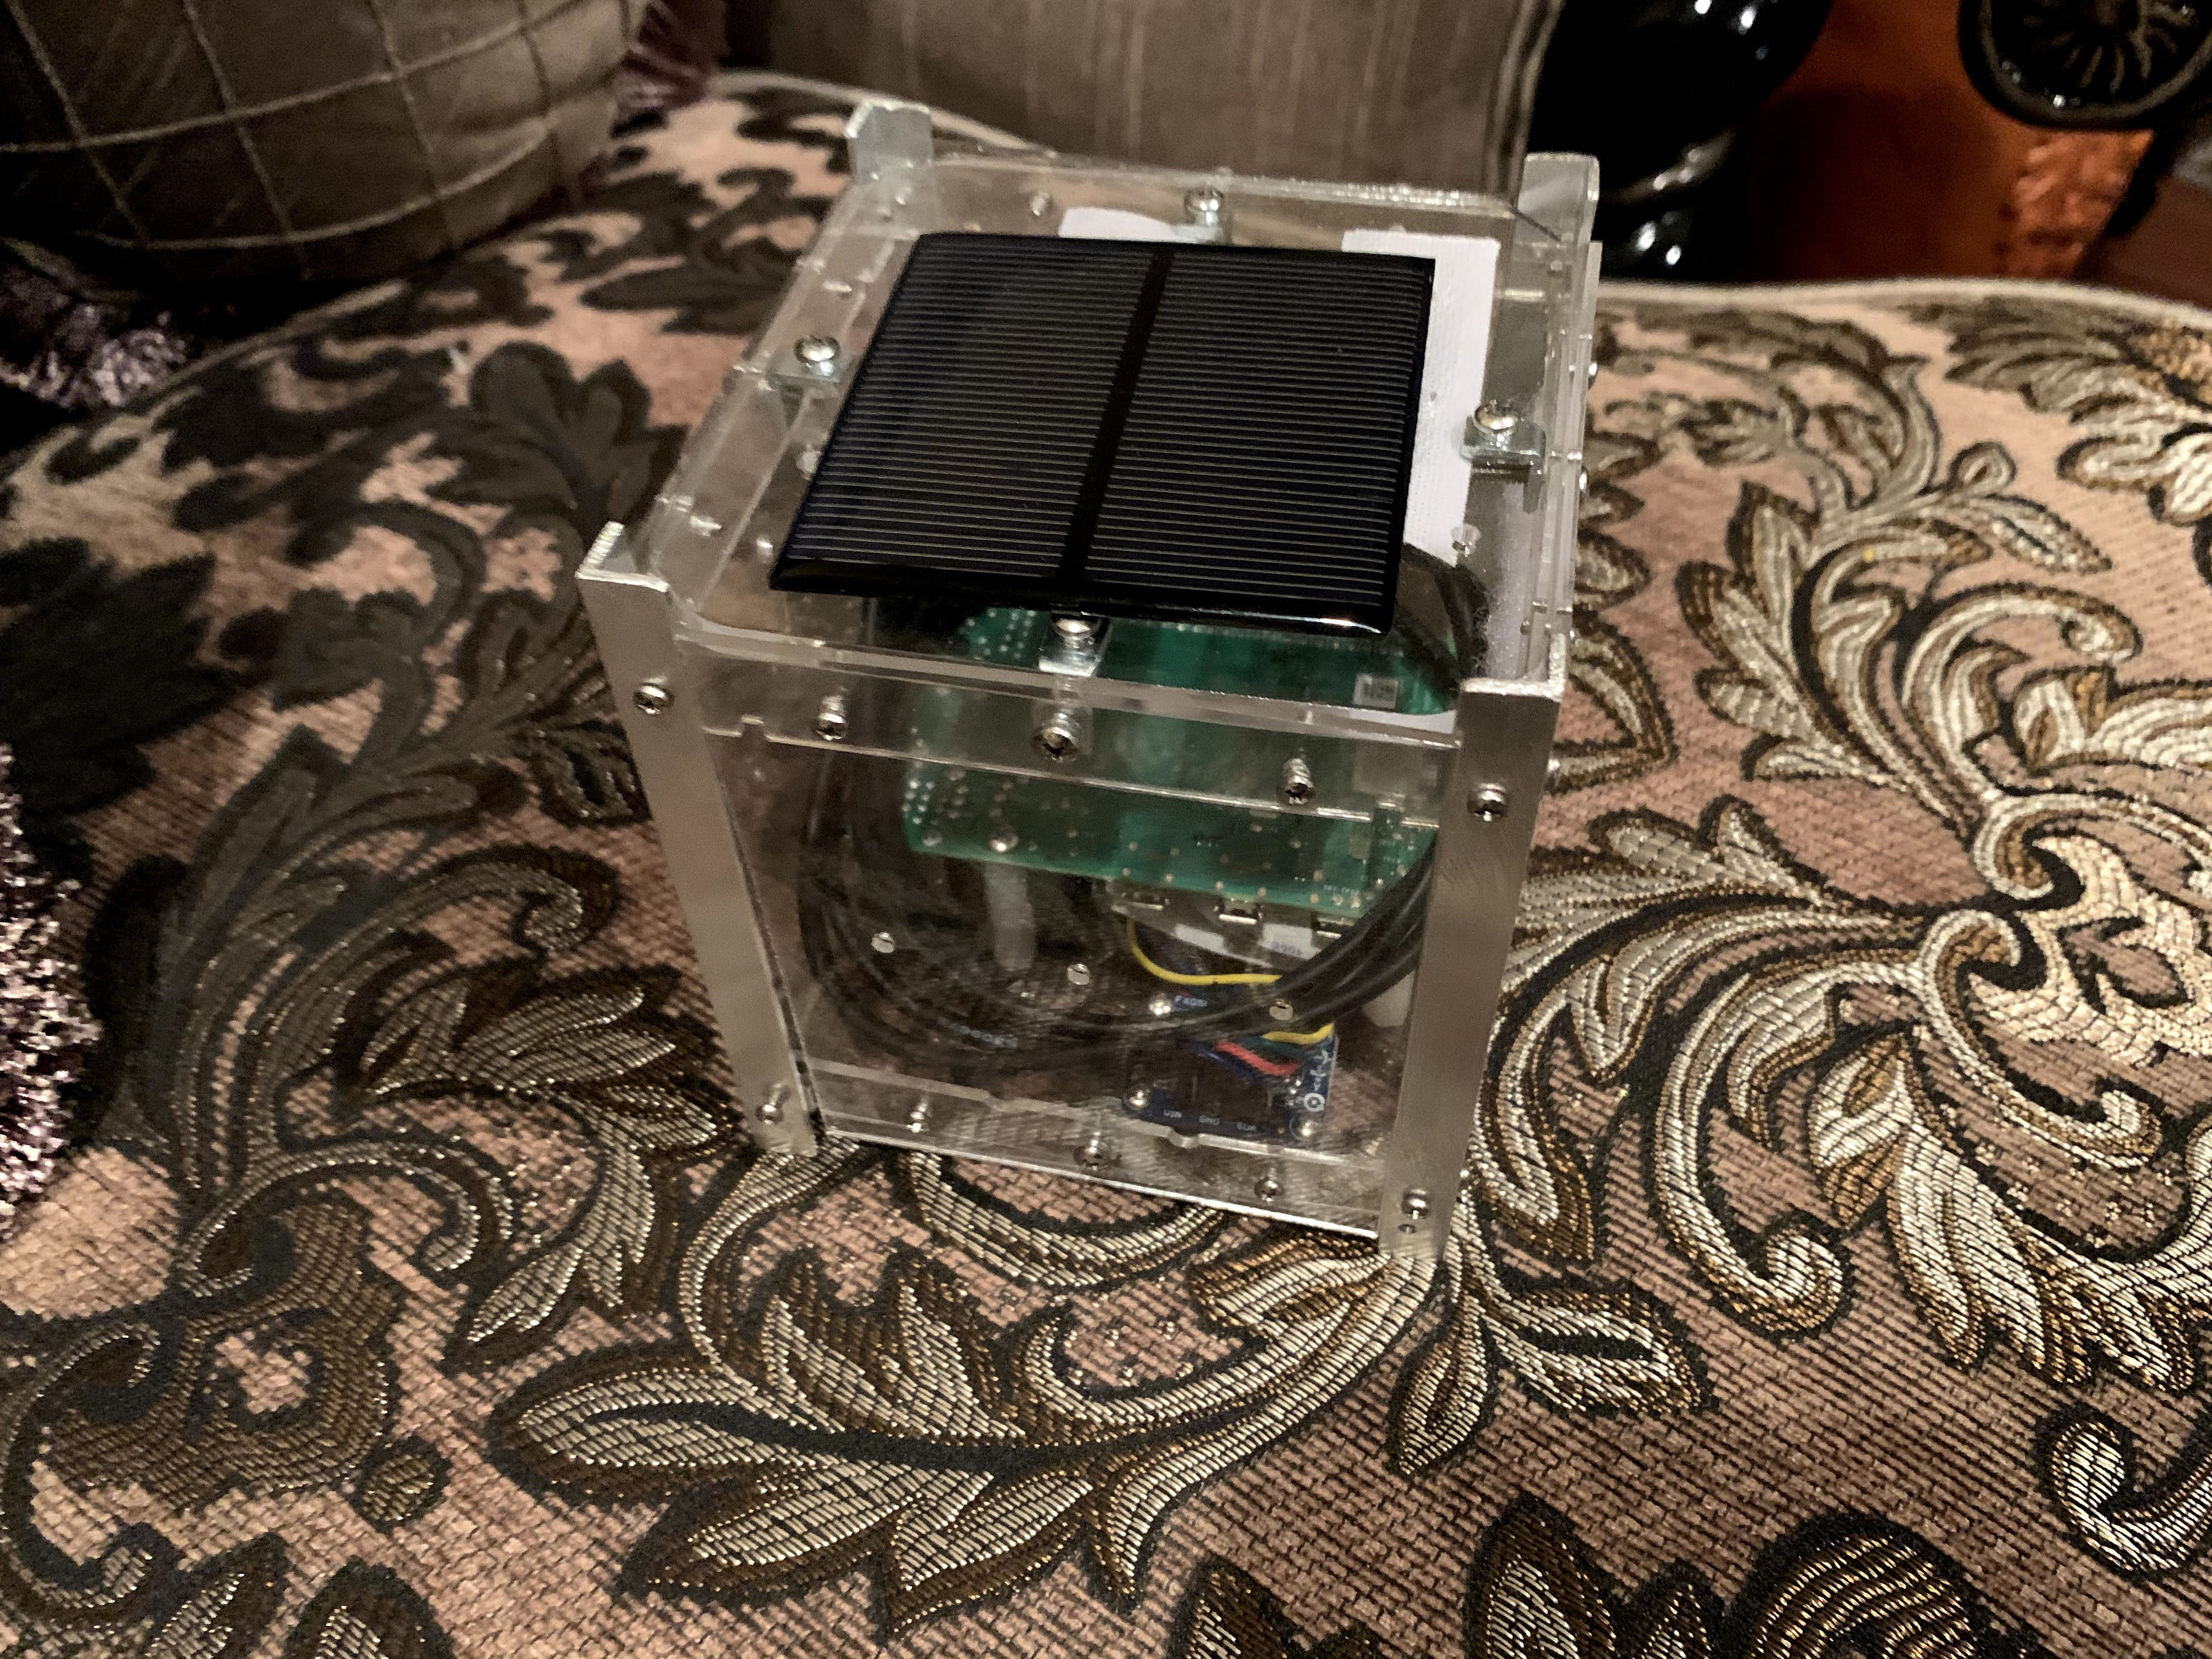Space-debris-cubesat: (583, 52, 1681, 1286)
